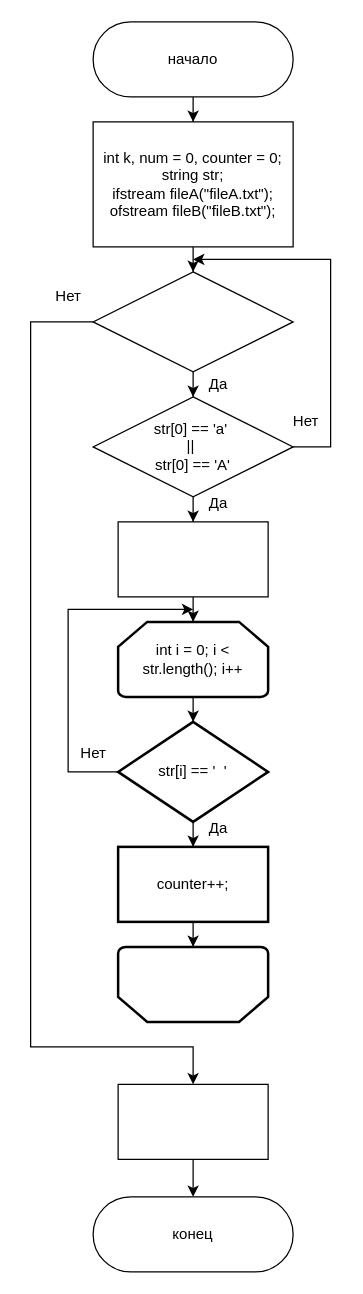
This 363x1294 diagram has some shape labels left out. Each missing label, with the box of its shape:
cout << "Amount of words: << counter;: (117, 1083, 268, 1159)
cout << str << endl; fileB << str << '\n'' counter++;: (117, 521, 268, 597)
getline(fileA, str): (92, 271, 293, 372)
i++: (116, 945, 269, 1022)
